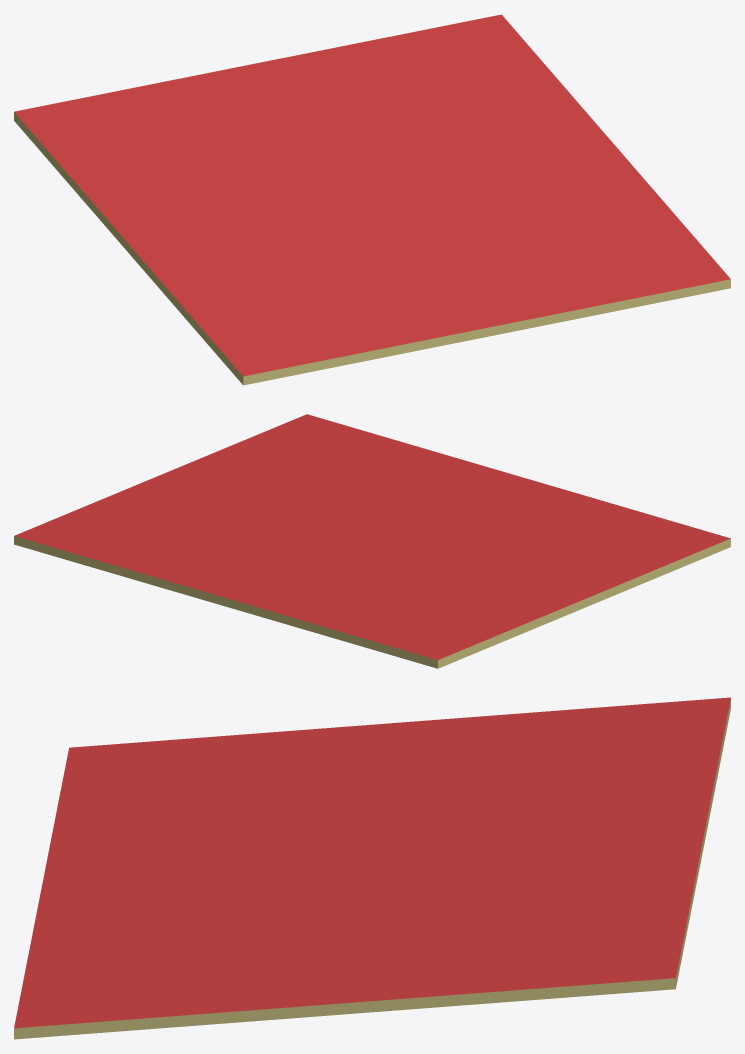
3 views of the same model, one above another, from view 1: azimuth 30°, elevation 25°; view 2: azimuth 150°, elevation 25°; view 3: azimuth 270°, elevation 25° (orthographic). The views are drawn at different scales.
Bounding box in the file's own units: 5.83 × 5.82 × 0.757.
